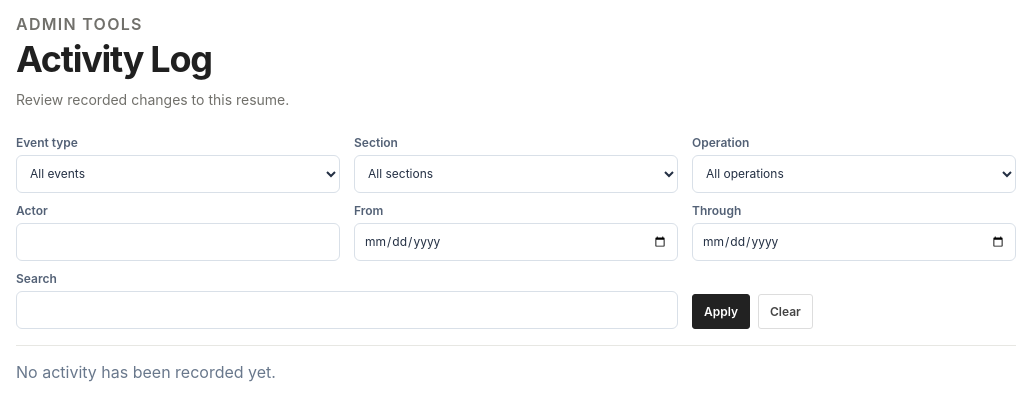
Test case: Activity Log page › clears applied filters and returns to an unfiltered first page
Expected: the text "No activity has been recorded yet." is shown, x1=16 y1=362 x2=276 y2=382
In the field labelled "Actor": {"x": 178, "y": 242} x1=16 y1=223 x2=340 y2=261, type "qa@example.test"
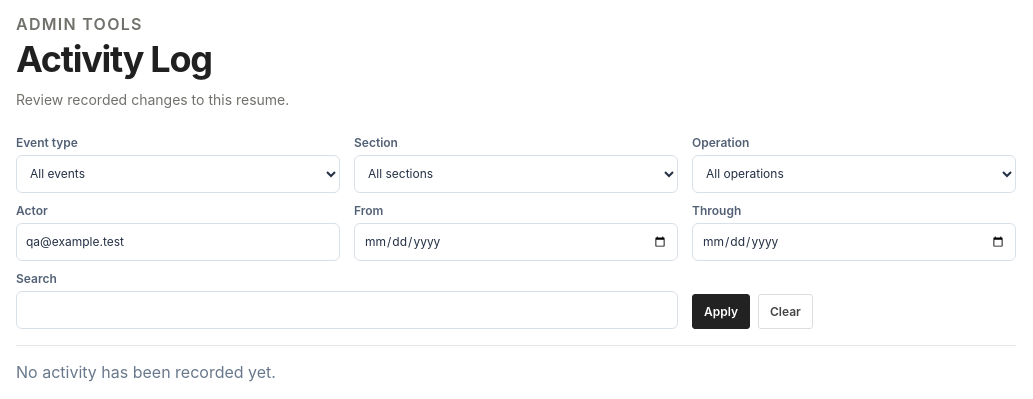
Click the button "Apply": {"x": 721, "y": 311} x1=692 y1=294 x2=750 y2=329
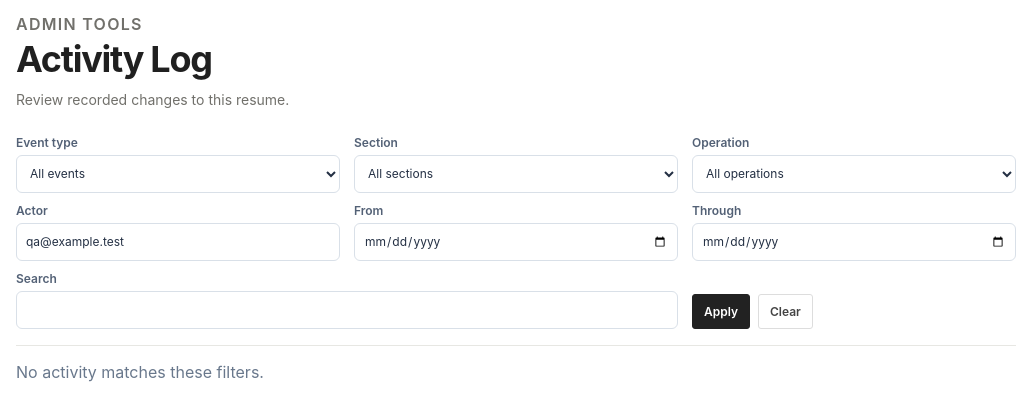
Result: the text "No activity matches these filters." is shown at x1=16 y1=362 x2=264 y2=382
Click the button "Clear": {"x": 785, "y": 311} x1=758 y1=294 x2=813 y2=329
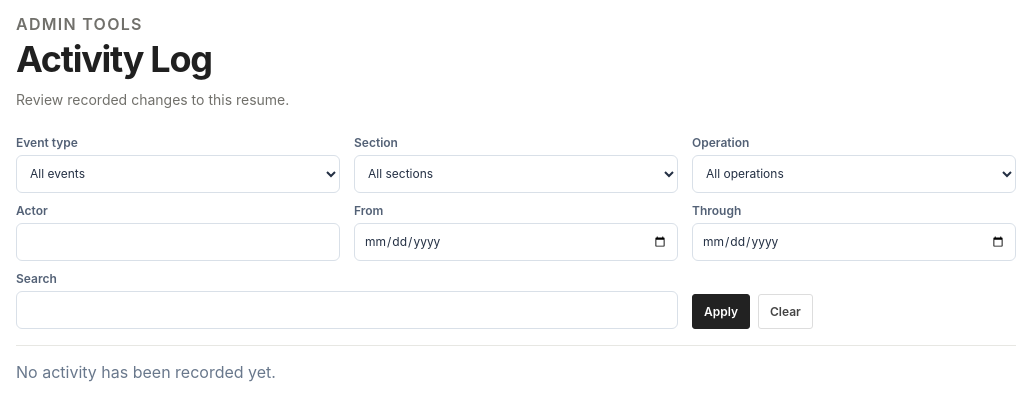
Result: the text "No activity has been recorded yet." is shown at x1=16 y1=362 x2=276 y2=382
